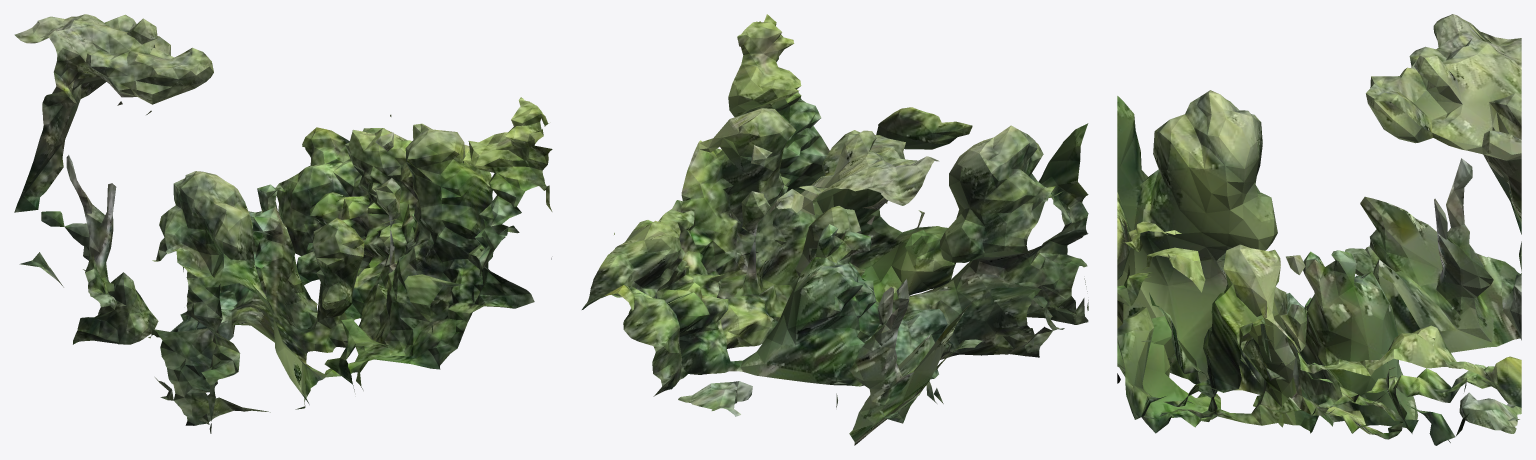
3 renders of one model, left to right at view 1: azimuth 30°, elevation 25°; view 2: azimuth 150°, elevation 25°; view 3: azimuth 270°, elevation 25°, orthographic. The views are drawn at different scales.
Size of the model in its own units: 26.11 by 21.5 by 26.11.
Materials: 7 (7 with a texture image).
